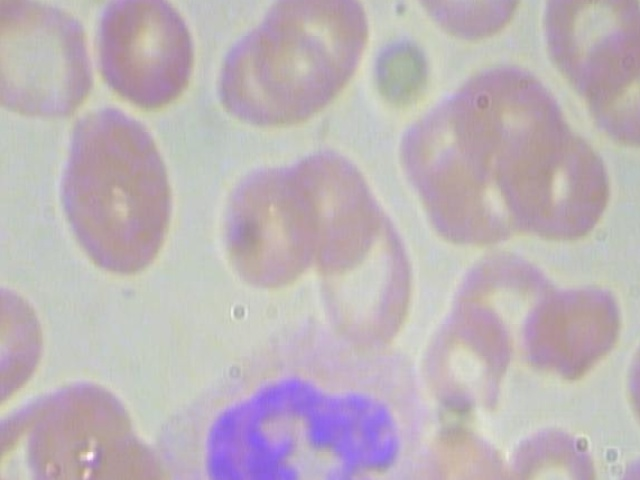RBC: (43, 103, 183, 286), (205, 157, 329, 298), (502, 116, 615, 245), (93, 0, 209, 119), (252, 0, 376, 109), (387, 93, 503, 203), (418, 303, 522, 418), (519, 279, 624, 386), (420, 144, 527, 247), (572, 25, 640, 153), (543, 0, 640, 86), (391, 0, 534, 51), (150, 324, 152, 326)
WBC: (144, 311, 443, 480)
